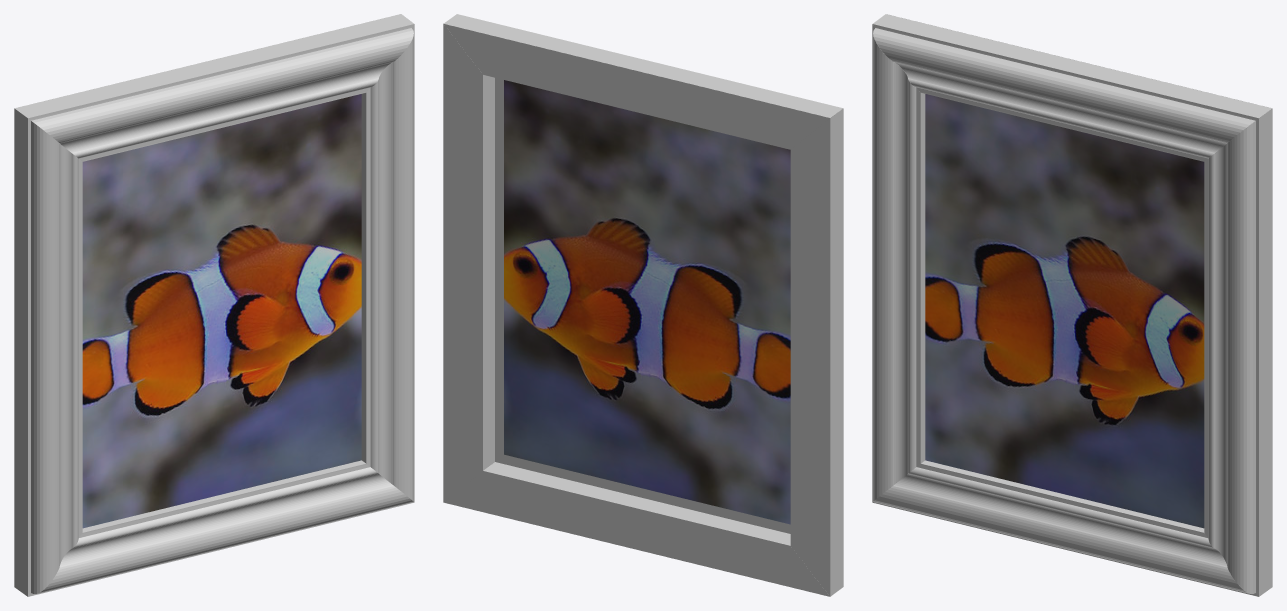
The model's file is cuadro2.fbx.
3 views of the same model, side by side, from view 1: azimuth 30°, elevation 25°; view 2: azimuth 150°, elevation 25°; view 3: azimuth 330°, elevation 25° (orthographic).
Visible parts, largest first — view 1: BezierCurve; view 2: BezierCurve; view 3: BezierCurve.
Boxes of the visible parts, x1,y1,x2,y2 form: BezierCurve: (14,14,414,596); BezierCurve: (443,14,843,596); BezierCurve: (872,14,1272,596).
Bounding box in the file's own units: 27.72 × 32.8 × 2.58.
Materials: 2 (1 with a texture image).
